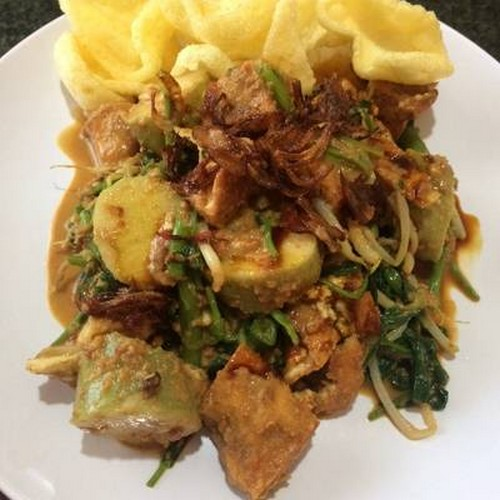tipat cantok: (55, 33, 479, 494)
